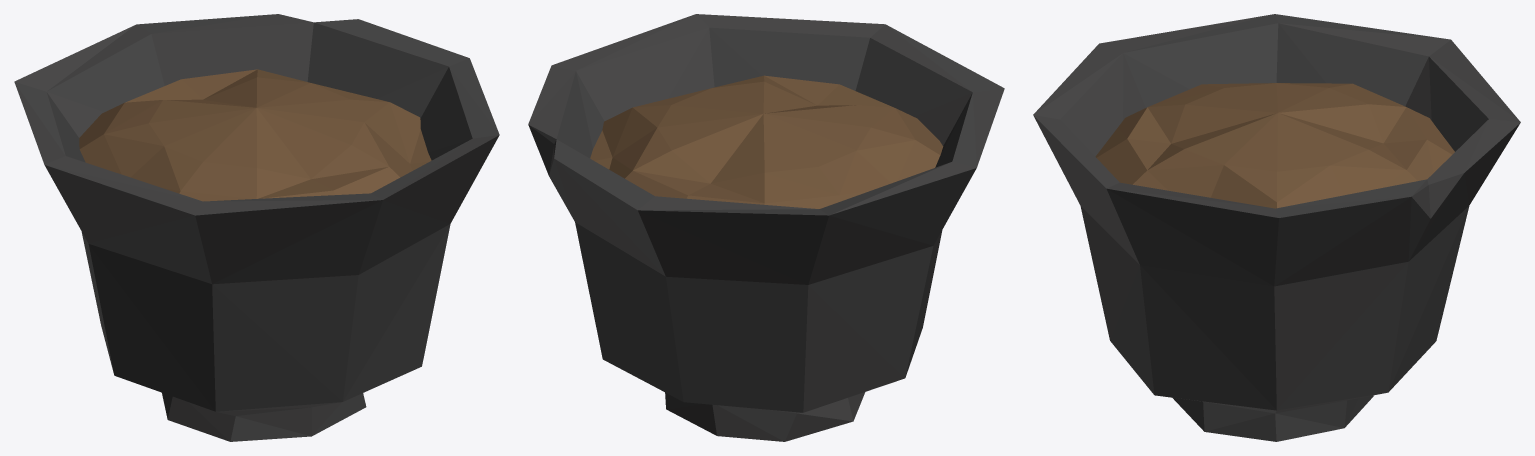
File: SFHW_Vassel_019.fbx
3 views of the same model, side by side, from view 1: azimuth 30°, elevation 25°; view 2: azimuth 150°, elevation 25°; view 3: azimuth 270°, elevation 25° (orthographic).
Parts seen in each view (by area): view 1: SFHW_Vassel_019; view 2: SFHW_Vassel_019; view 3: SFHW_Vassel_019.
Part boxes in pixels (x1=…): SFHW_Vassel_019: x1=14, y1=14, x2=499, y2=441; SFHW_Vassel_019: x1=528, y1=14, x2=1004, y2=441; SFHW_Vassel_019: x1=1033, y1=14, x2=1520, y2=441.
Size of the model in its own units: 37.86 by 24.5 by 38.09.
